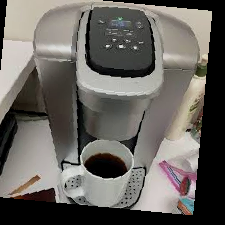10oz: (116, 44, 125, 51)
12oz: (130, 44, 140, 51)
4oz: (109, 36, 118, 43)
6oz: (123, 37, 133, 44)
8oz: (103, 43, 113, 50)
